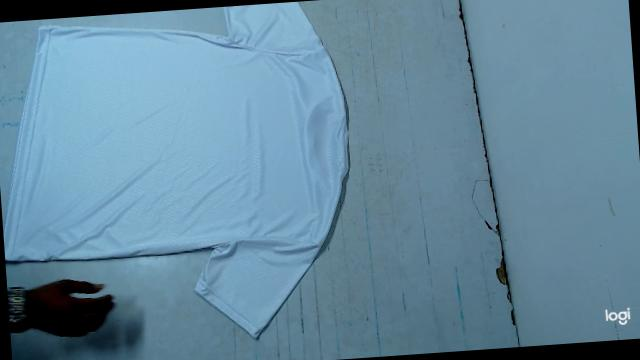new-garment: (3, 1, 347, 336)
